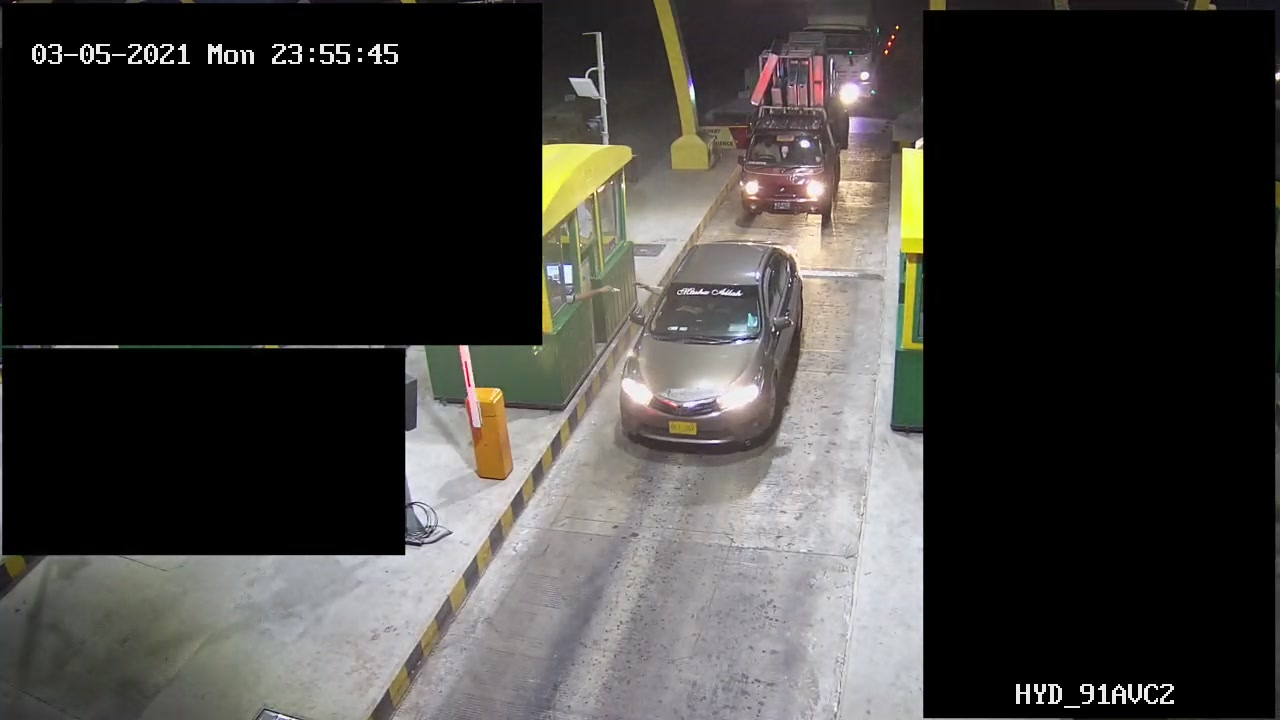F1: (608, 232, 814, 459)
F2: (724, 45, 848, 229)
